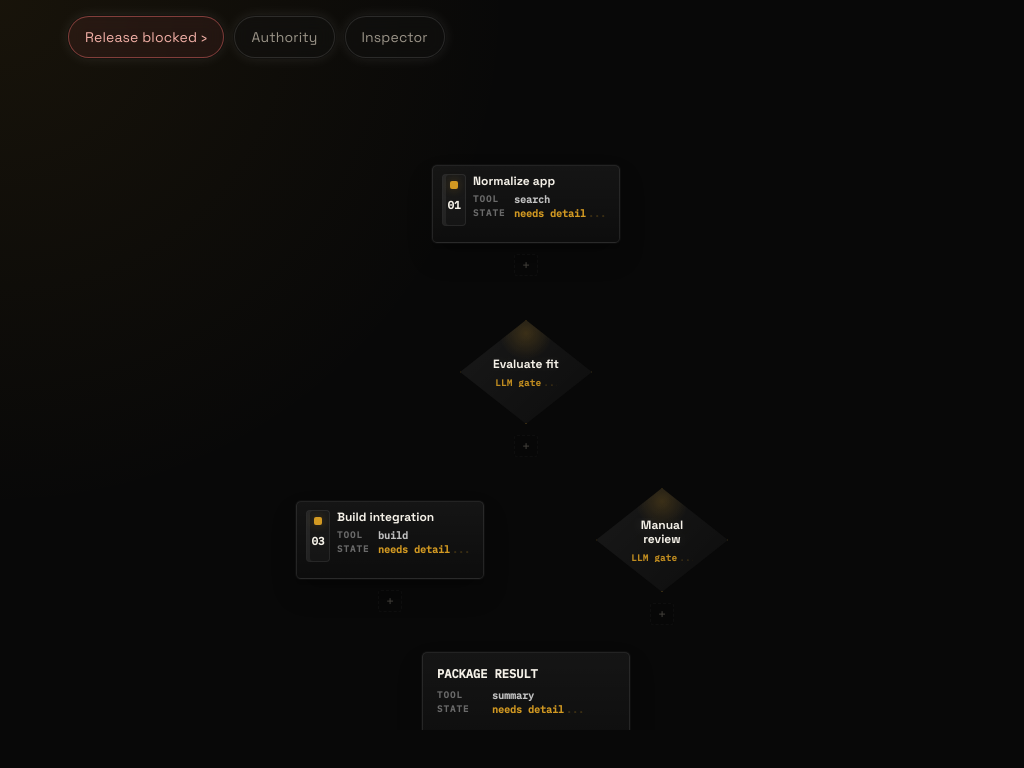
MoonBuildPage › summarizes branch points without flattening them into the review route
This screenshot has width=1024, height=768.
Click the button with aria-label "Open Inspector dock" at (395, 37), box [344,16,445,58]
(page scrolled)
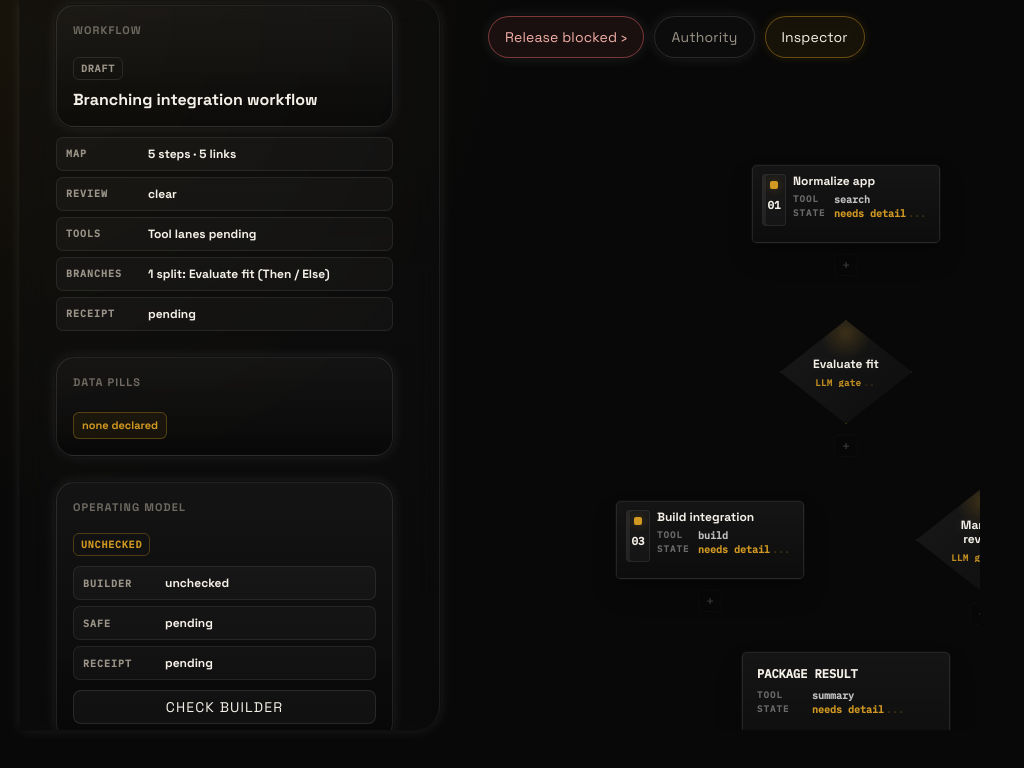
Check: the element named "Workflow inspector summary" shows "1 split: Evaluate fit", box [148,266,330,282]
Check: the element named "Workflow inspector summary" shows "Then / Else", box [148,266,330,282]
Check: the element named "Workflow inspector summary" shows "5 steps · 5 links", box [56,0,393,730]
